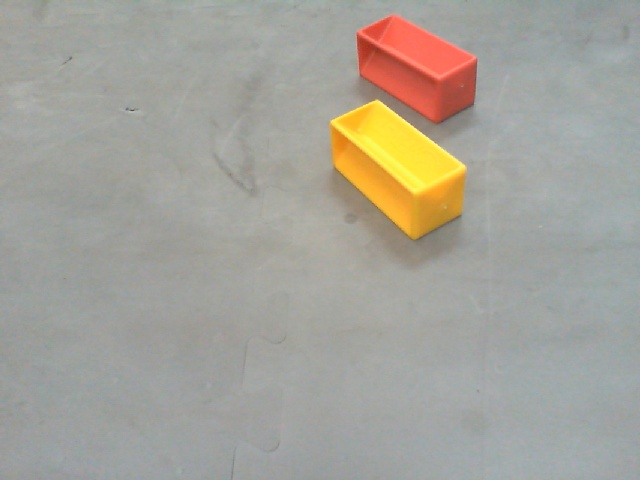RedSample: (356, 15, 481, 121)
YellowSample: (329, 98, 469, 241)
